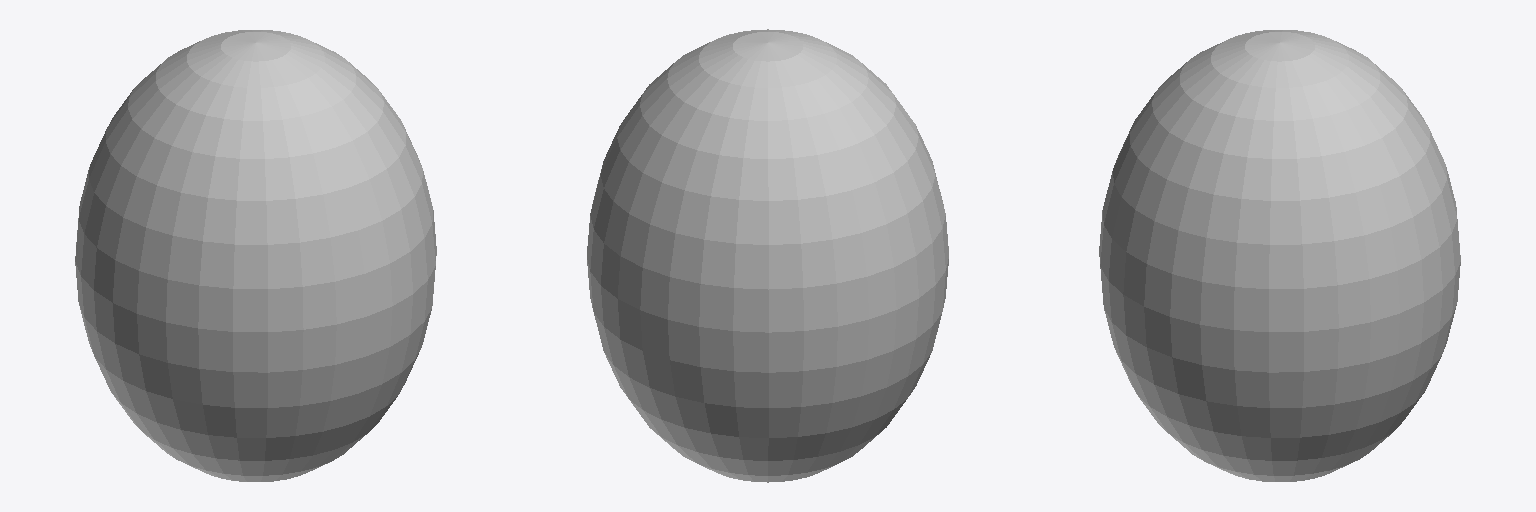
The model's file is real_egg.obj.
The picture shows the model from 3 angles: view 1: azimuth 30°, elevation 25°; view 2: azimuth 150°, elevation 25°; view 3: azimuth 270°, elevation 25°; orthographic projection.
Visible parts, largest first — view 1: 구체; view 2: 구체; view 3: 구체.
Part boxes in pixels (x1,y1,x2,y2): 구체: (75, 30, 436, 481); 구체: (587, 29, 948, 482); 구체: (1099, 30, 1460, 481).
Size of the model in its own units: 8.61 by 11.21 by 8.61.